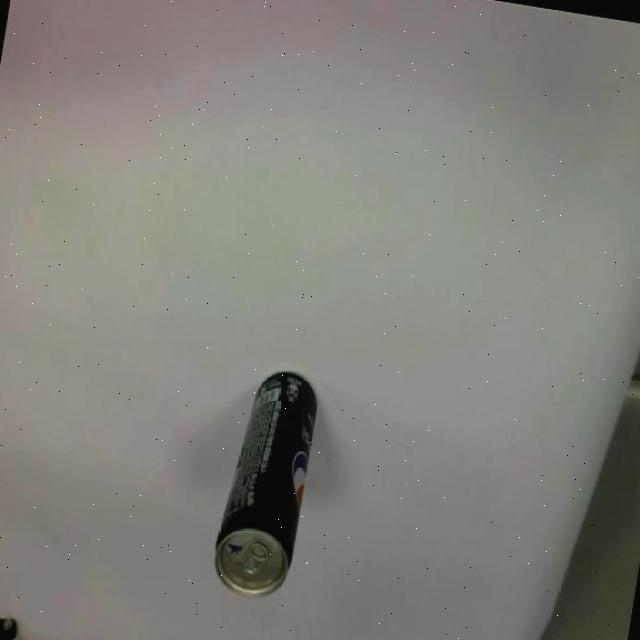debris: (206, 364, 322, 604)
